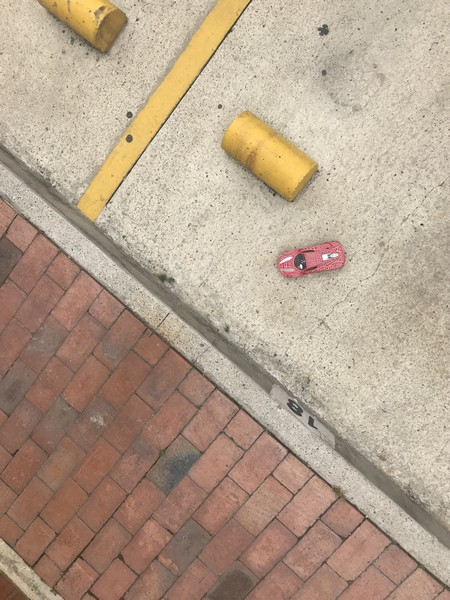RC: (275, 239, 349, 280)
